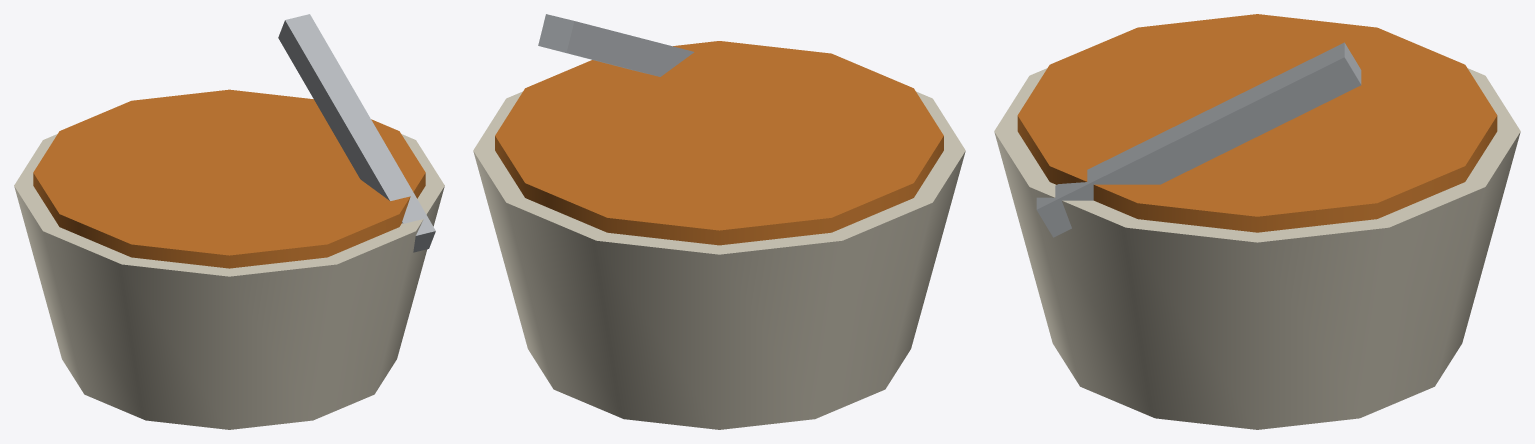
File: good-soup.glb
3 views of the same model, side by side, from view 1: azimuth 30°, elevation 25°; view 2: azimuth 150°, elevation 25°; view 3: azimuth 270°, elevation 25° (orthographic). The views are drawn at different scales.
Visible parts, largest first — view 1: #d8d2c0, #c8782c_noshadow, #b0b4b8 metal 0.6_noshadow; view 2: #d8d2c0, #c8782c_noshadow, #b0b4b8 metal 0.6_noshadow; view 3: #d8d2c0, #c8782c_noshadow, #b0b4b8 metal 0.6_noshadow.
Boxes of the visible parts, x1,y1,x2,y2 form: #d8d2c0: (14,134,444,429); #c8782c_noshadow: (33,89,425,268); #b0b4b8 metal 0.6_noshadow: (278,14,435,252); #d8d2c0: (473,91,965,429); #c8782c_noshadow: (495,41,943,245); #b0b4b8 metal 0.6_noshadow: (538,14,694,76); #d8d2c0: (994,68,1520,429); #c8782c_noshadow: (1017,14,1497,232); #b0b4b8 metal 0.6_noshadow: (1036,42,1361,237).
Bounding box in the file's own units: 0.18 × 0.134 × 0.18.
